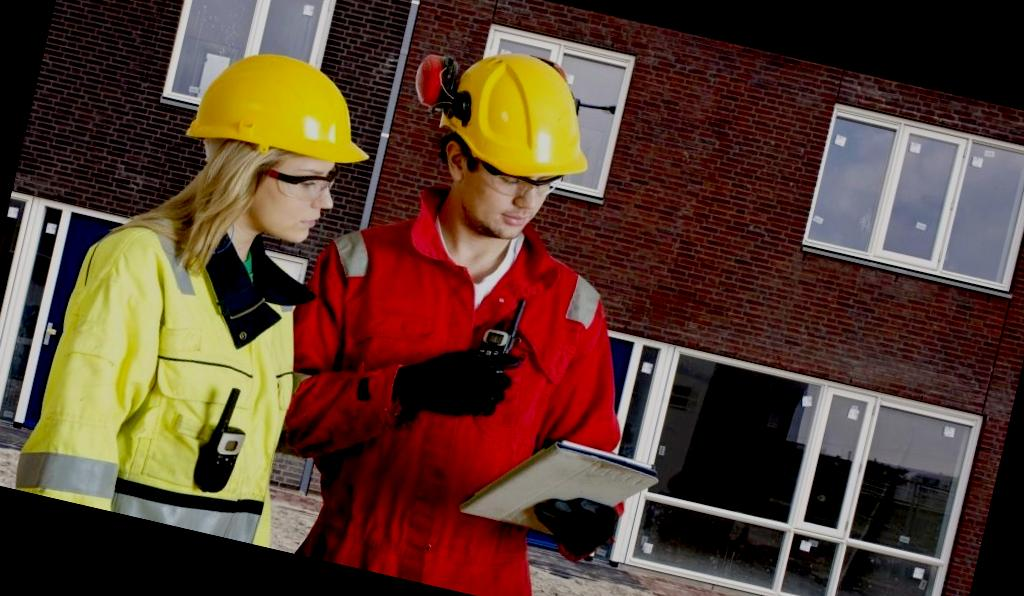helmet: (186, 33, 388, 176), (430, 36, 610, 194)
no_vest: (276, 197, 639, 596), (38, 208, 338, 548)
person: (263, 22, 688, 596), (26, 16, 392, 551)
